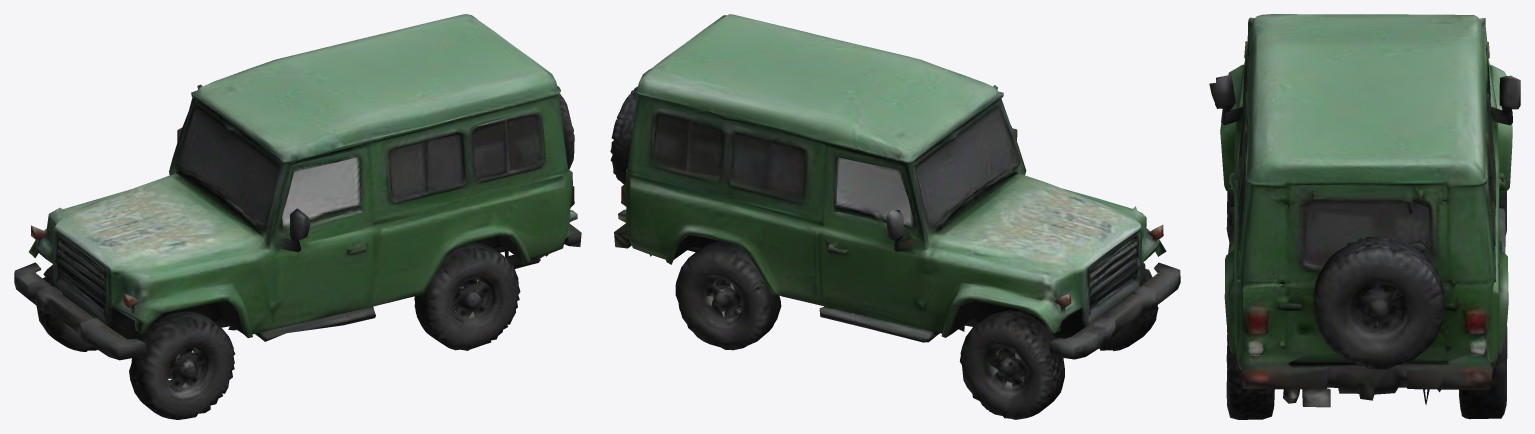
File: jeep.glb
3 renders of one model, left to right at view 1: azimuth 30°, elevation 25°; view 2: azimuth 150°, elevation 25°; view 3: azimuth 270°, elevation 25°, orthographic. The views are drawn at different scales.
Parts seen in each view (by area): view 1: tripo_node_0879b826-669d-47fa-b140-81d98e3e5efa; view 2: tripo_node_0879b826-669d-47fa-b140-81d98e3e5efa; view 3: tripo_node_0879b826-669d-47fa-b140-81d98e3e5efa.
Part boxes in pixels (bbox=[...]): tripo_node_0879b826-669d-47fa-b140-81d98e3e5efa: bbox=[14, 14, 581, 419]; tripo_node_0879b826-669d-47fa-b140-81d98e3e5efa: bbox=[610, 14, 1180, 419]; tripo_node_0879b826-669d-47fa-b140-81d98e3e5efa: bbox=[1209, 14, 1520, 419].
Bounding box in the file's own units: 1 × 0.4764 × 0.4377.
Materials: 1 (1 with a texture image).
